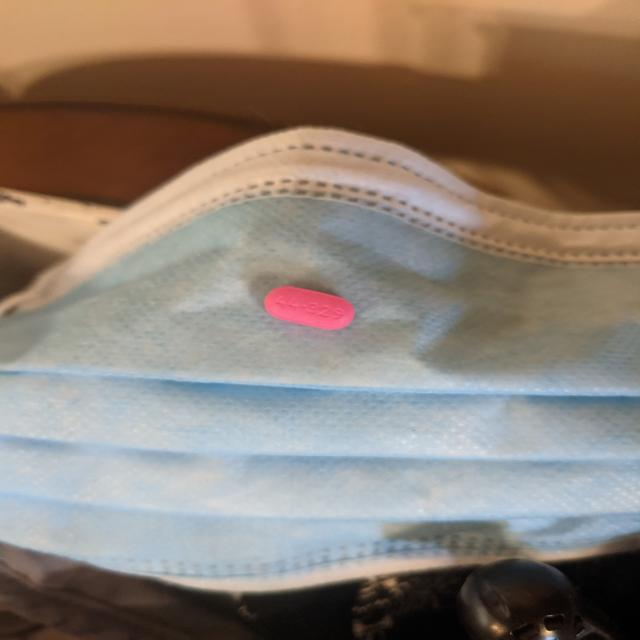non-organic waste: (264, 285, 356, 331)
